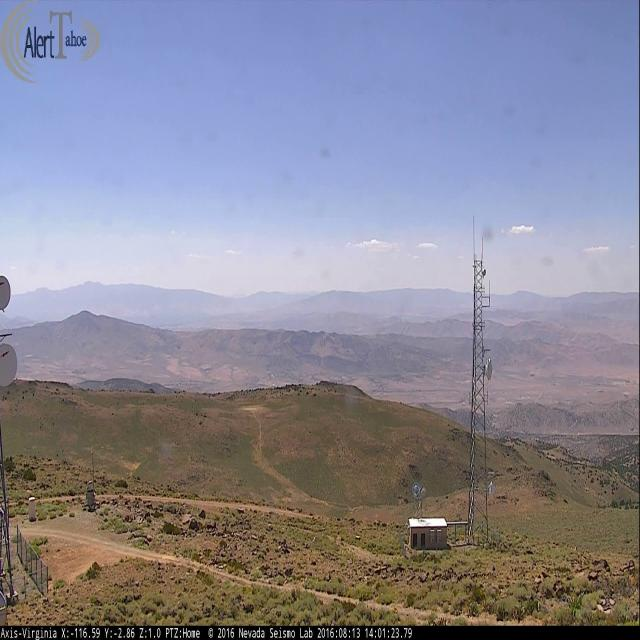smoke: (393, 290, 413, 325)
